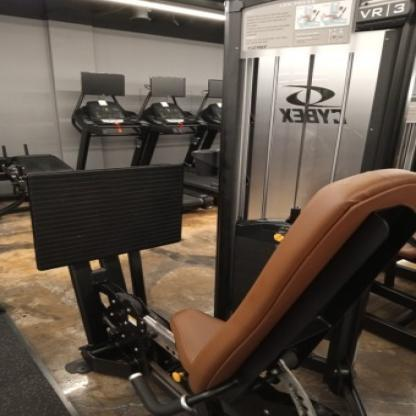leg press: (0, 1, 416, 416)
